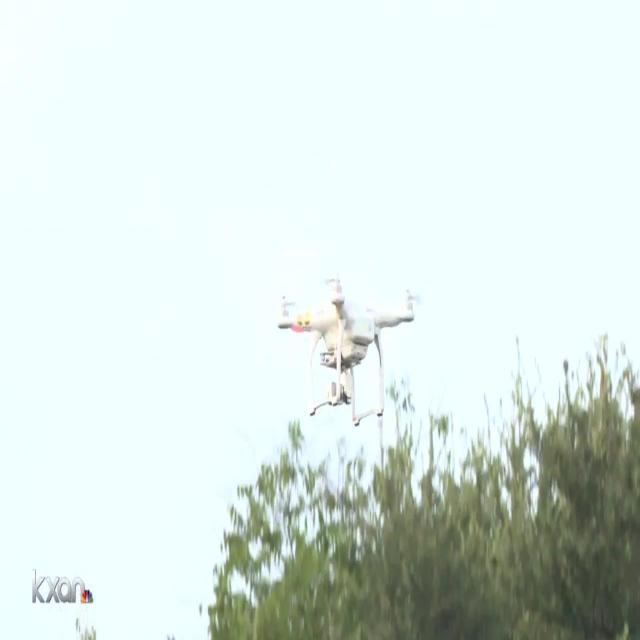UAV: (277, 274, 420, 428)
